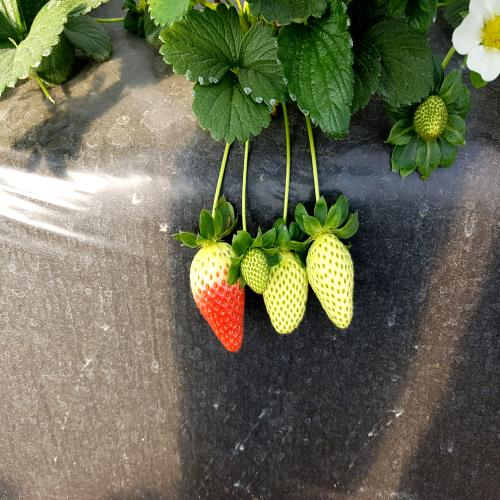partially-ripe: (188, 238, 248, 360)
unripe: (307, 233, 361, 330), (263, 240, 308, 340)
